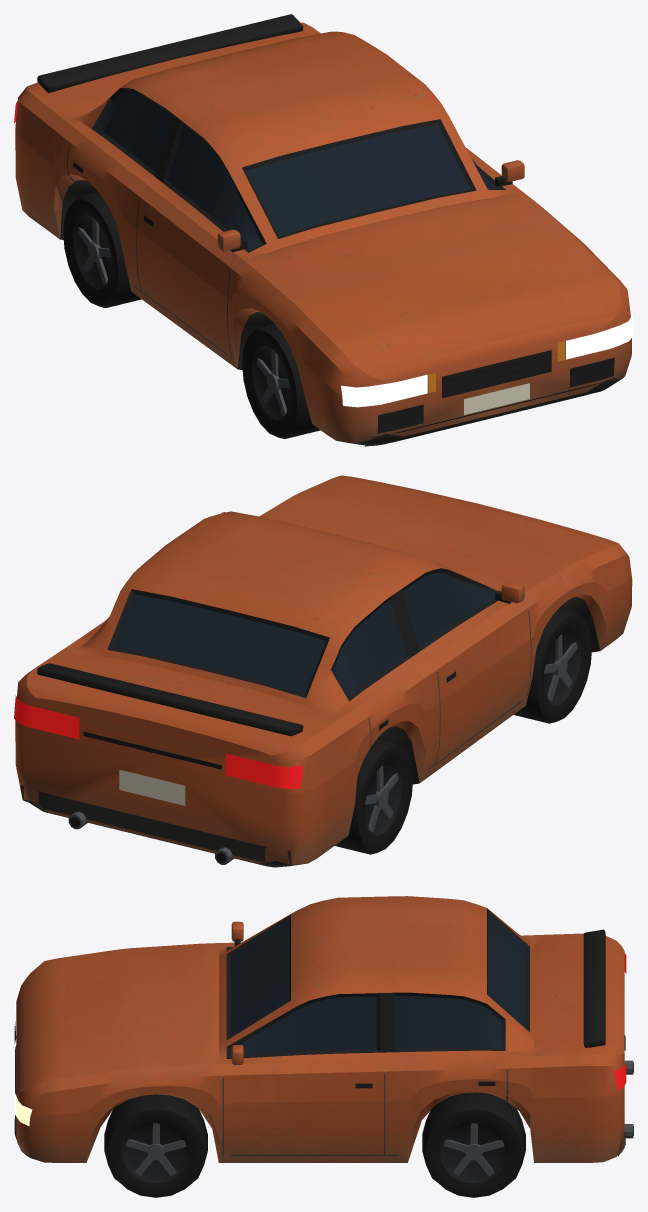
Rendered from sedan-sports.glb.
The picture shows the model from 3 angles, top to bottom: view 1: azimuth 30°, elevation 25°; view 2: azimuth 150°, elevation 25°; view 3: azimuth 270°, elevation 25°; orthographic projection. The views are drawn at different scales.
Parts seen in each view (by area): view 1: body, wheel-back-right, wheel-front-right, wheel-front-right.1, wheel-back-right.1; view 2: body, wheel-back-right, wheel-front-right, wheel-back-right.1, wheel-front-right.1; view 3: body, wheel-back-left, wheel-front-left, wheel-back-left.1, wheel-front-left.1.
Boxes of the visible parts, left/top/right/bottom form: body: left=14, top=14, right=633, bottom=446; wheel-back-right: left=63, top=192, right=141, bottom=307; wheel-front-right: left=242, top=323, right=320, bottom=438; wheel-front-right.1: left=252, top=346, right=290, bottom=420; wheel-back-right.1: left=73, top=215, right=111, bottom=289; body: left=14, top=475, right=633, bottom=867; wheel-back-right: left=335, top=738, right=413, bottom=854; wheel-front-right: left=514, top=608, right=591, bottom=723; wheel-back-right.1: left=364, top=761, right=402, bottom=836; wheel-front-right.1: left=543, top=630, right=581, bottom=705; body: left=14, top=896, right=633, bottom=1162; wheel-back-left: left=422, top=1092, right=525, bottom=1197; wheel-front-left: left=104, top=1094, right=207, bottom=1197; wheel-back-left.1: left=440, top=1121, right=508, bottom=1183; wheel-front-left.1: left=122, top=1121, right=190, bottom=1183.
Size of the model in its own units: 1.3 by 0.9096 by 2.57.
Materials: 12 (1 with a texture image).
